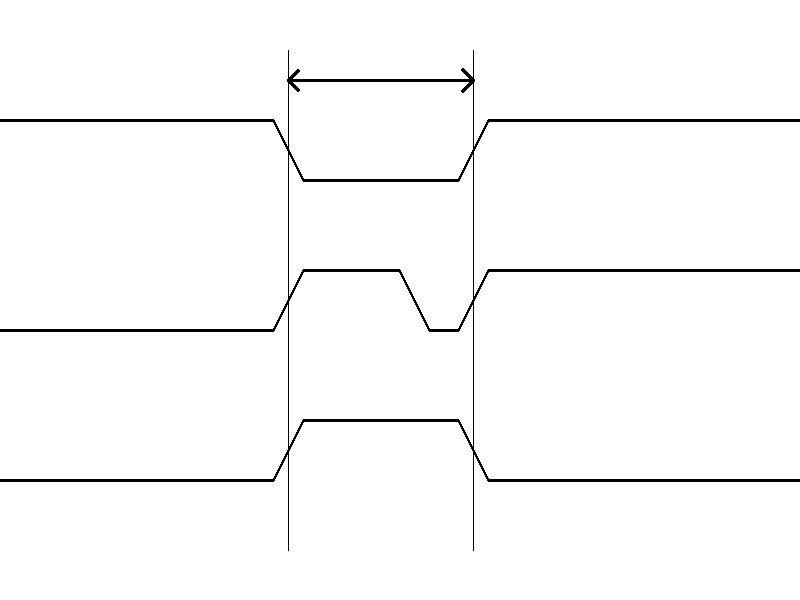double_arrow: (288, 65, 473, 95)
